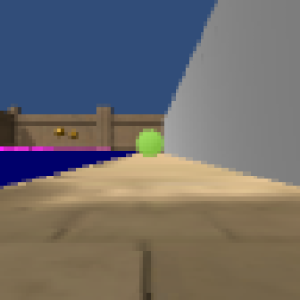goodGoal: (136, 130, 164, 157)
goodGoalMulti: (69, 128, 82, 141), (53, 126, 66, 138)
platform: (1, 152, 138, 188)
ramp: (1, 143, 114, 153)
wall: (160, 1, 300, 192)
